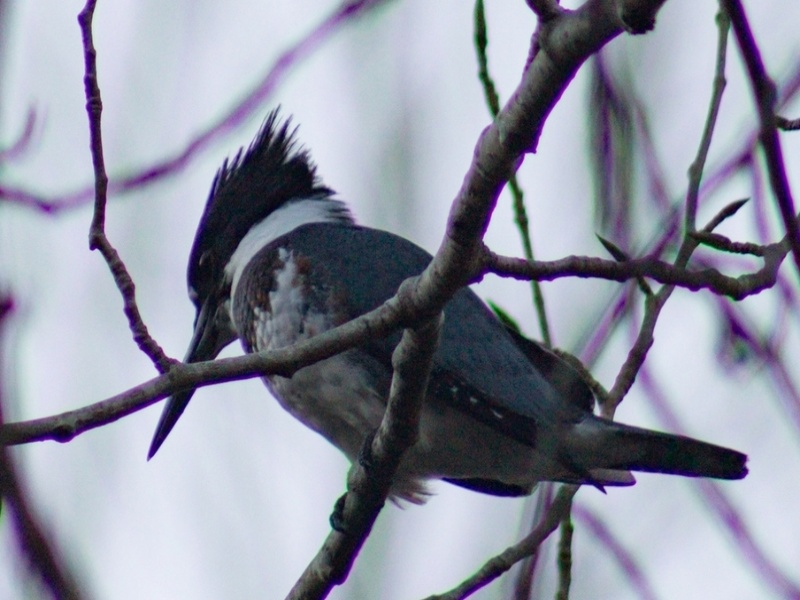kingfisher: (140, 102, 753, 504)
